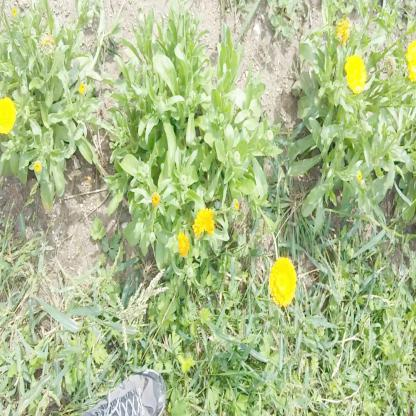marigold: (270, 260, 296, 306), (193, 207, 214, 238), (348, 58, 366, 92), (0, 96, 15, 132)
